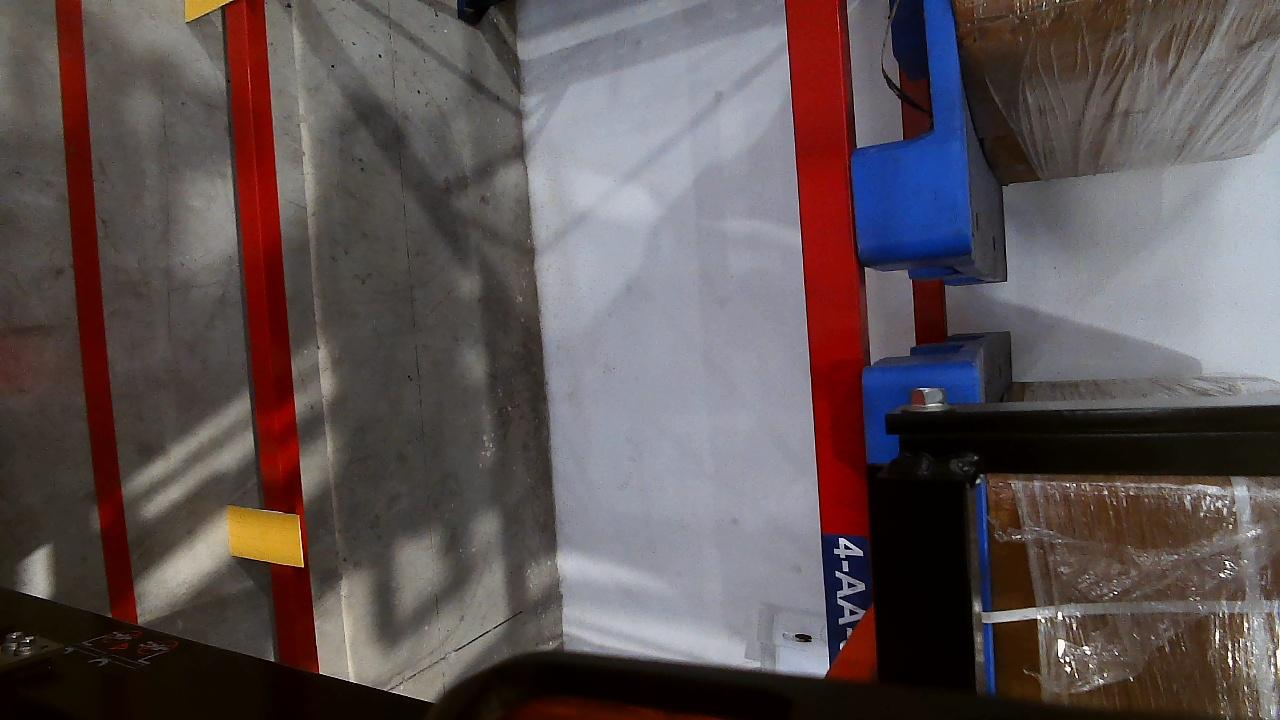h_rack: (225, 5, 322, 676), (782, 0, 871, 655)
orange_strip: (225, 505, 305, 565), (184, 0, 232, 20)
red_line: (52, 2, 128, 616)
small_pallet: (837, 0, 976, 251)
